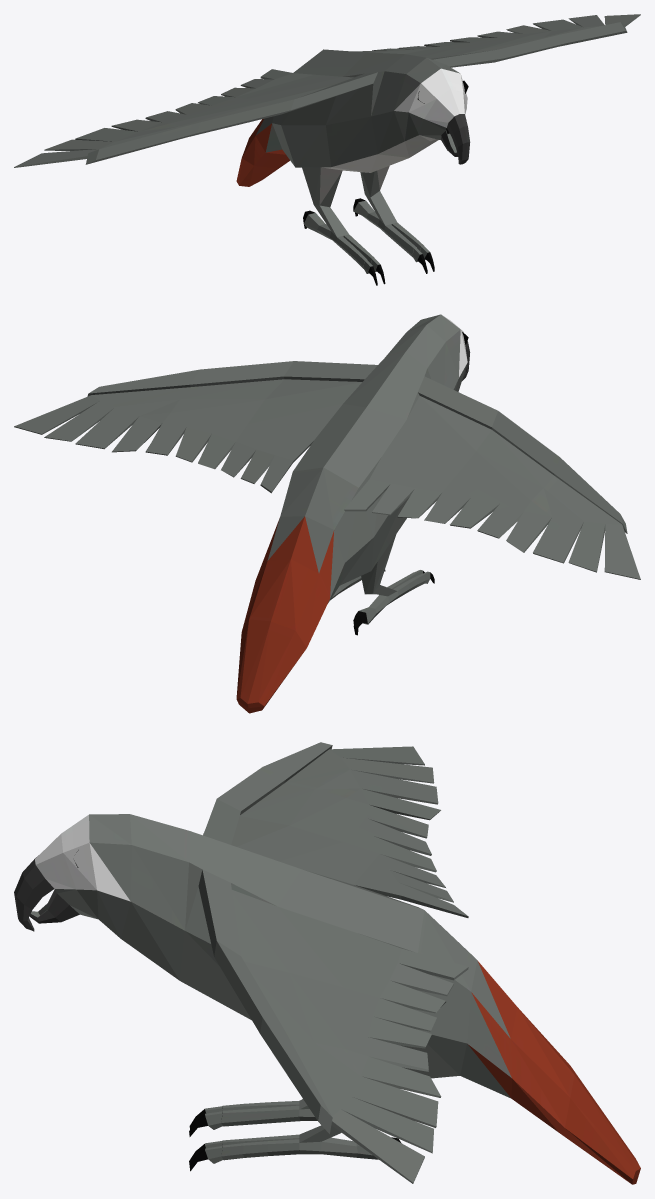
File: Eagle.glb
3 views of the same model, one above another, from view 1: azimuth 30°, elevation 25°; view 2: azimuth 150°, elevation 25°; view 3: azimuth 270°, elevation 25° (orthographic). The views are drawn at different scales.
Parts seen in each view (by area): view 1: 24birdFinal; view 2: 24birdFinal; view 3: 24birdFinal.
Boxes of the visible parts, left/top/right/bottom form: 24birdFinal: left=14, top=14, right=640, bottom=285; 24birdFinal: left=14, top=314, right=640, bottom=713; 24birdFinal: left=14, top=742, right=640, bottom=1184.
Size of the model in its own units: 0.6063 by 0.2394 by 0.3679.
Materials: 1 (1 with a texture image).
